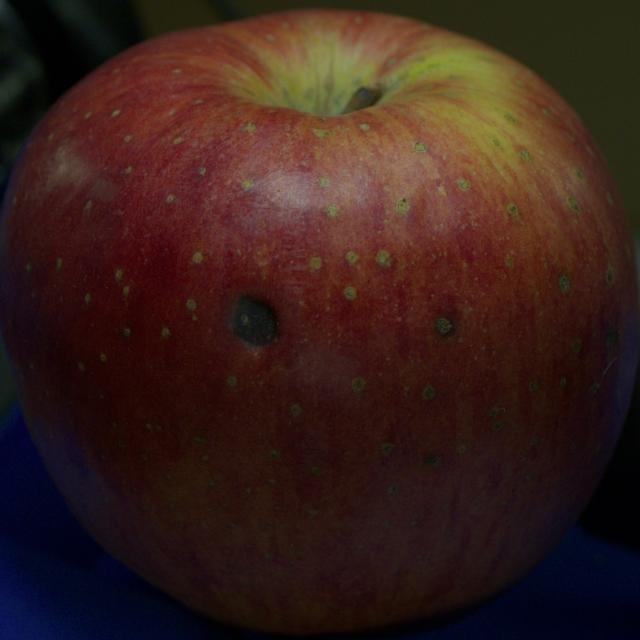apple: (0, 10, 639, 636)
pest: (234, 298, 276, 346), (437, 318, 452, 334)
scratch: (590, 358, 616, 393)
